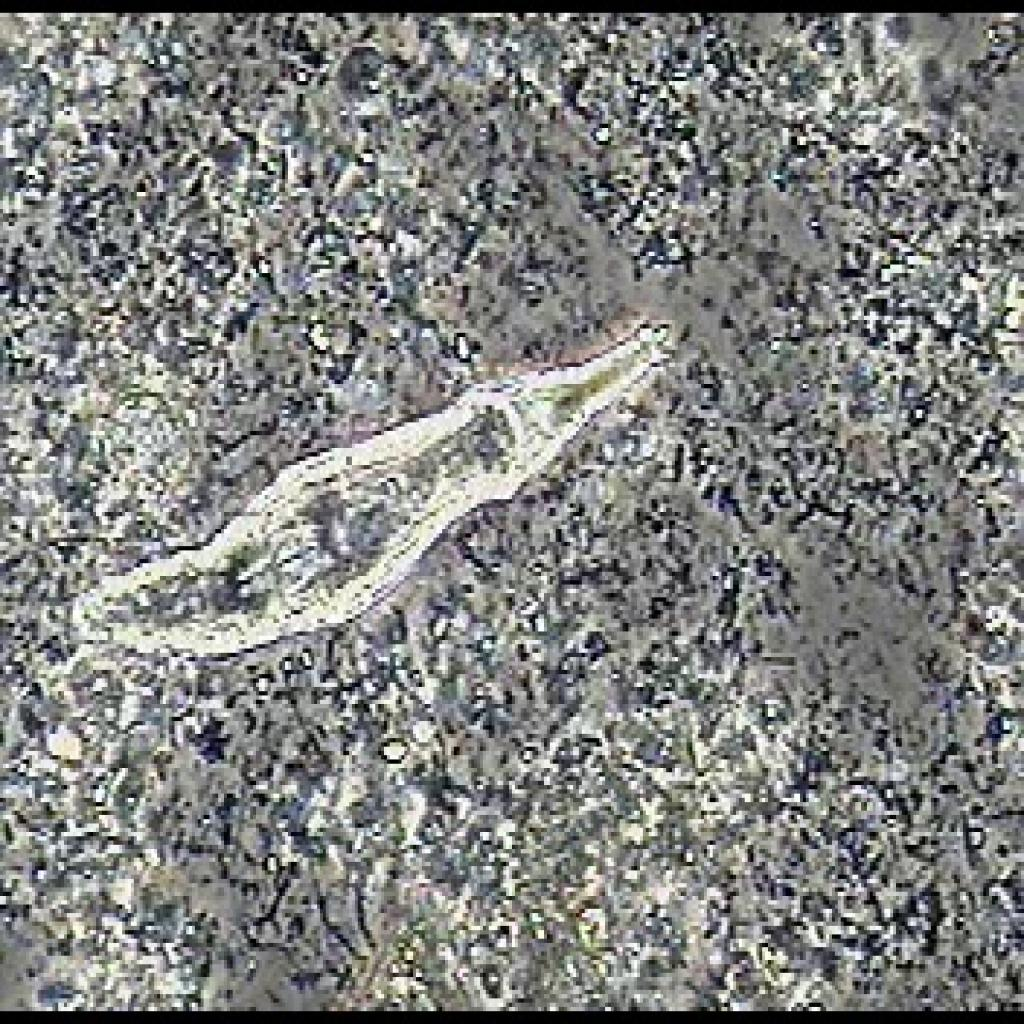Rotatoria: (0, 330, 710, 650)
